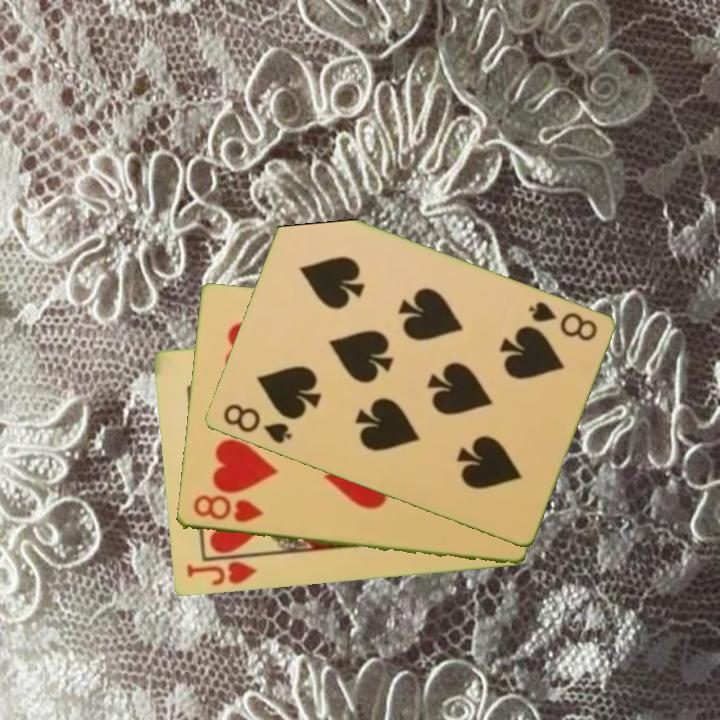8h: (189, 492, 266, 526)
8s: (219, 400, 295, 447), (524, 298, 600, 345)
Jh: (182, 551, 265, 589)
